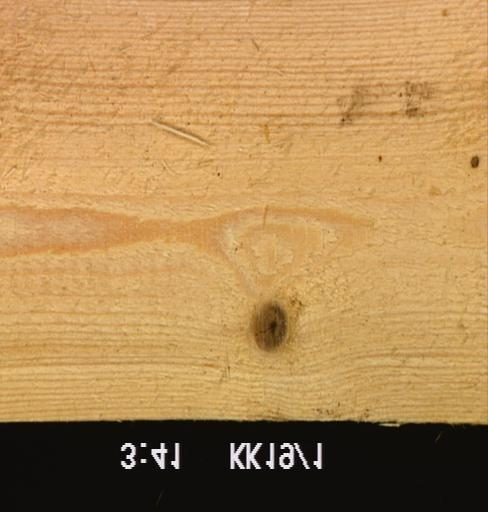small_knot: (467, 152, 480, 169)
sound_knot: (247, 298, 292, 356)
